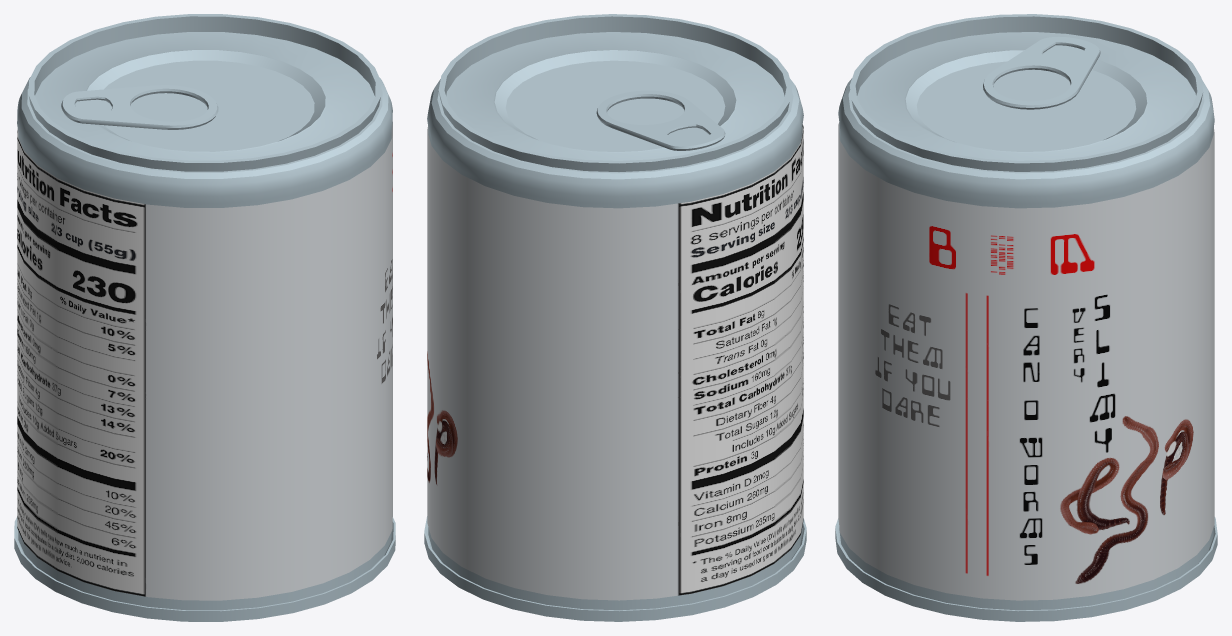
File: Can of Worms.glb
The picture shows the model from 3 angles, left to right: view 1: azimuth 30°, elevation 25°; view 2: azimuth 150°, elevation 25°; view 3: azimuth 270°, elevation 25°; orthographic projection.
Parts seen in each view (by area): view 1: 3 Label, 3 Can, 3 Can Opener; view 2: 3 Label, 3 Can, 3 Can Opener; view 3: 3 Label, 3 Can, 3 Can Opener.
Boxes of the visible parts, x1,y1,x2,y2 form: 3 Label: [17, 122, 392, 600]; 3 Can: [14, 14, 395, 621]; 3 Can Opener: [61, 85, 218, 129]; 3 Label: [427, 124, 803, 600]; 3 Can: [424, 14, 806, 621]; 3 Can Opener: [596, 90, 725, 150]; 3 Label: [838, 122, 1214, 600]; 3 Can: [835, 14, 1217, 621]; 3 Can Opener: [983, 36, 1100, 109].
Size of the model in its own units: 0.1971 by 0.2573 by 0.1971.
Materials: 3 (2 with a texture image).
